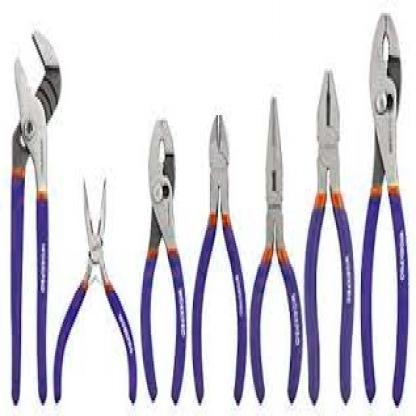Pliers: (348, 7, 414, 408), (50, 168, 143, 413), (8, 22, 64, 413), (298, 58, 358, 412), (187, 102, 253, 410), (248, 86, 306, 412), (132, 101, 192, 409)
